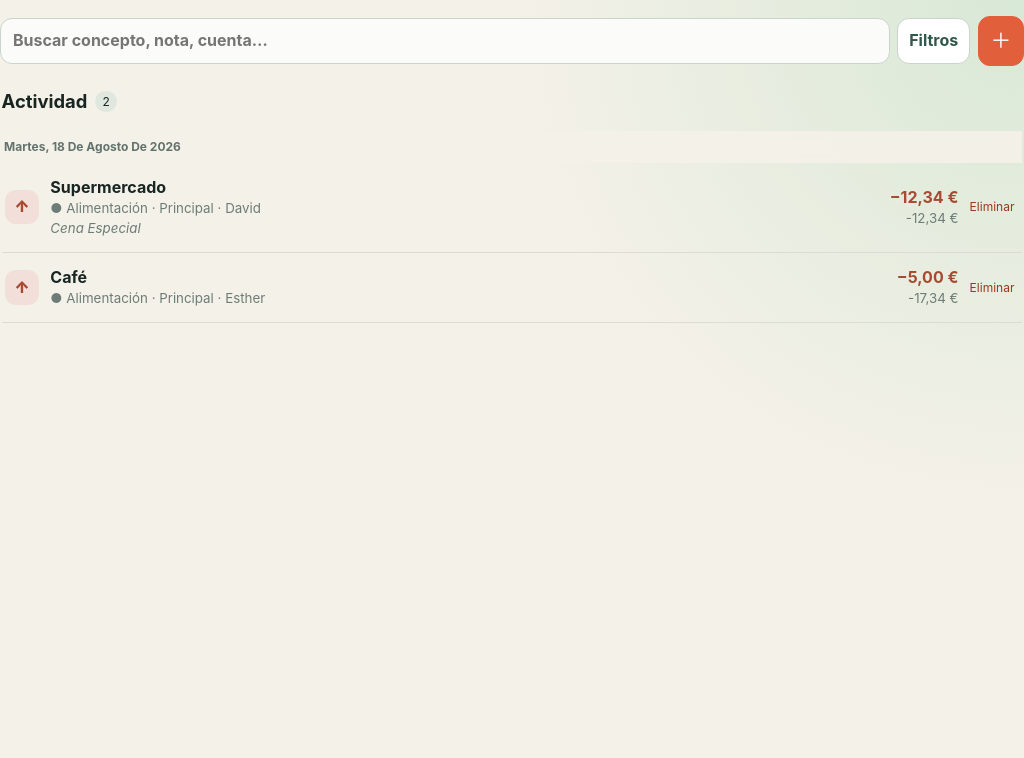
Scenario: Phase 3 navigation and movements › opens the add form from the movements toolbar
Click the button named "Añadir movimiento": point(1001, 41) [978, 16, 1023, 66]
(page scrolled)
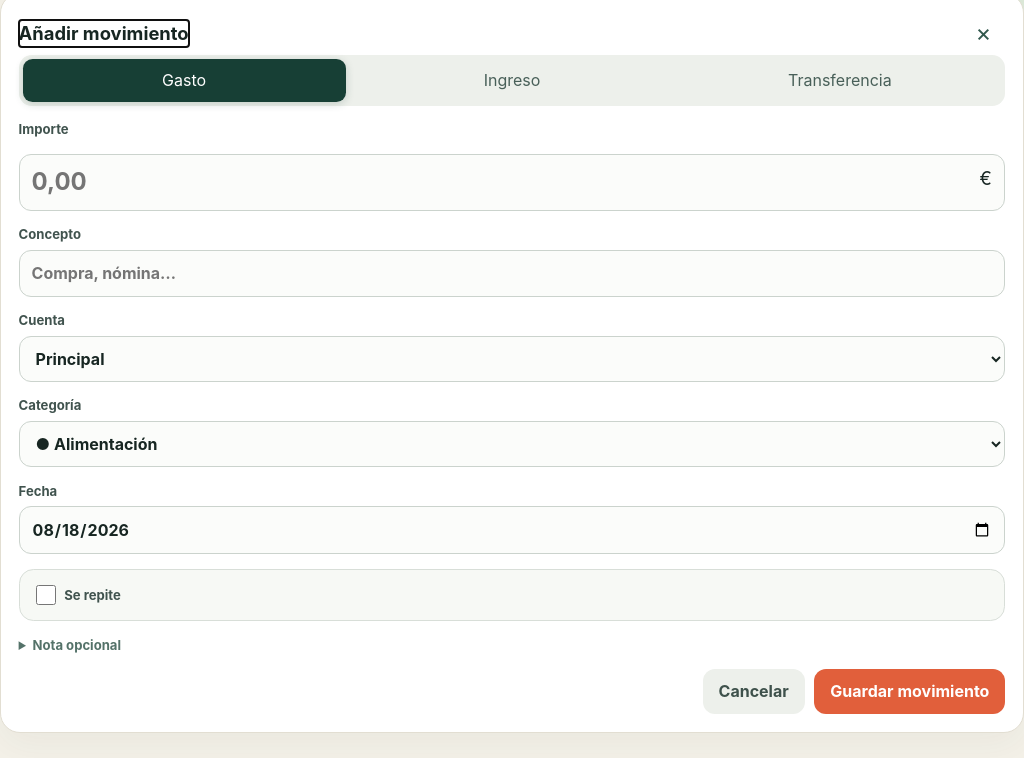
Result: the form named "Añadir movimiento" is shown
